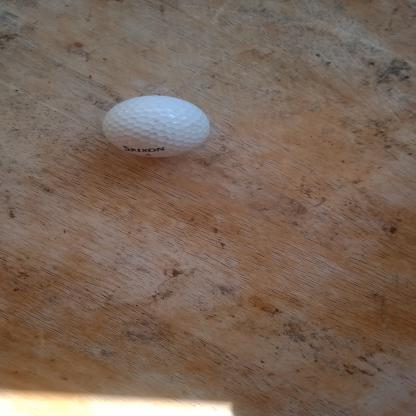Golf: (100, 92, 216, 162)
